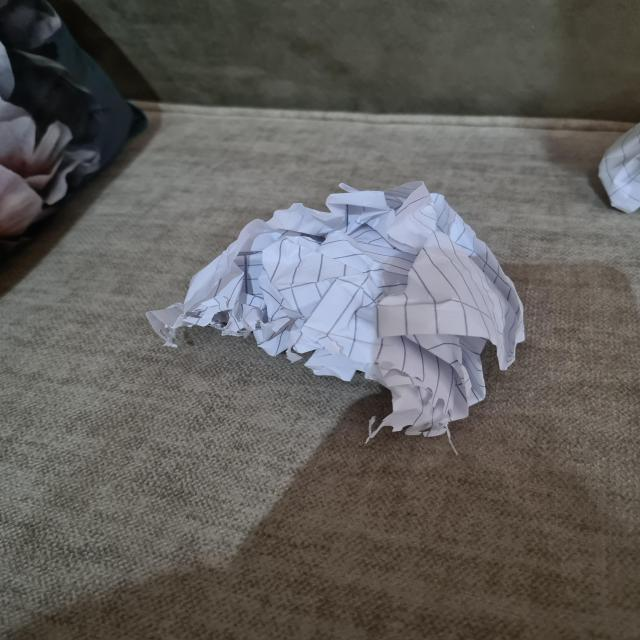kertas: (157, 178, 532, 432)
